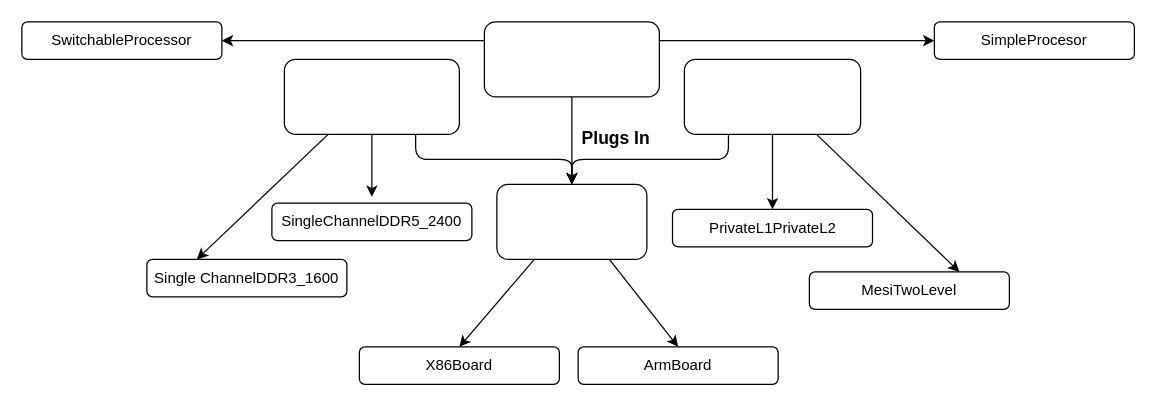
Image size: 1156x406. Some labels were removed from this diagram. Each missing label, with the centre of its shape:
"AbstractCacheHierarchy" goes at [772,96].
"AbstractMemory" goes at [371,96].
"AbstractProcessor" goes at [571,59].
"Board" goes at [571,221].
